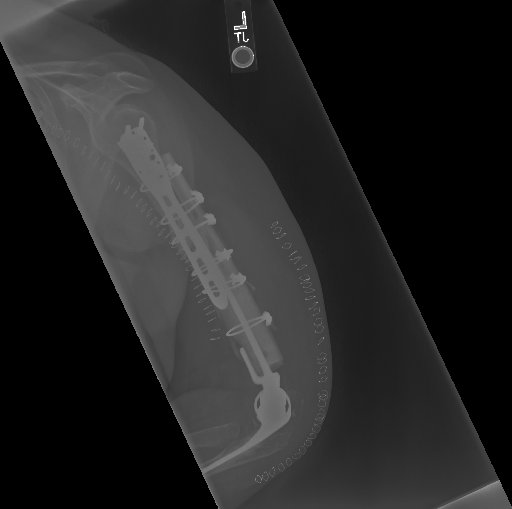implant: (116, 114, 270, 343)
